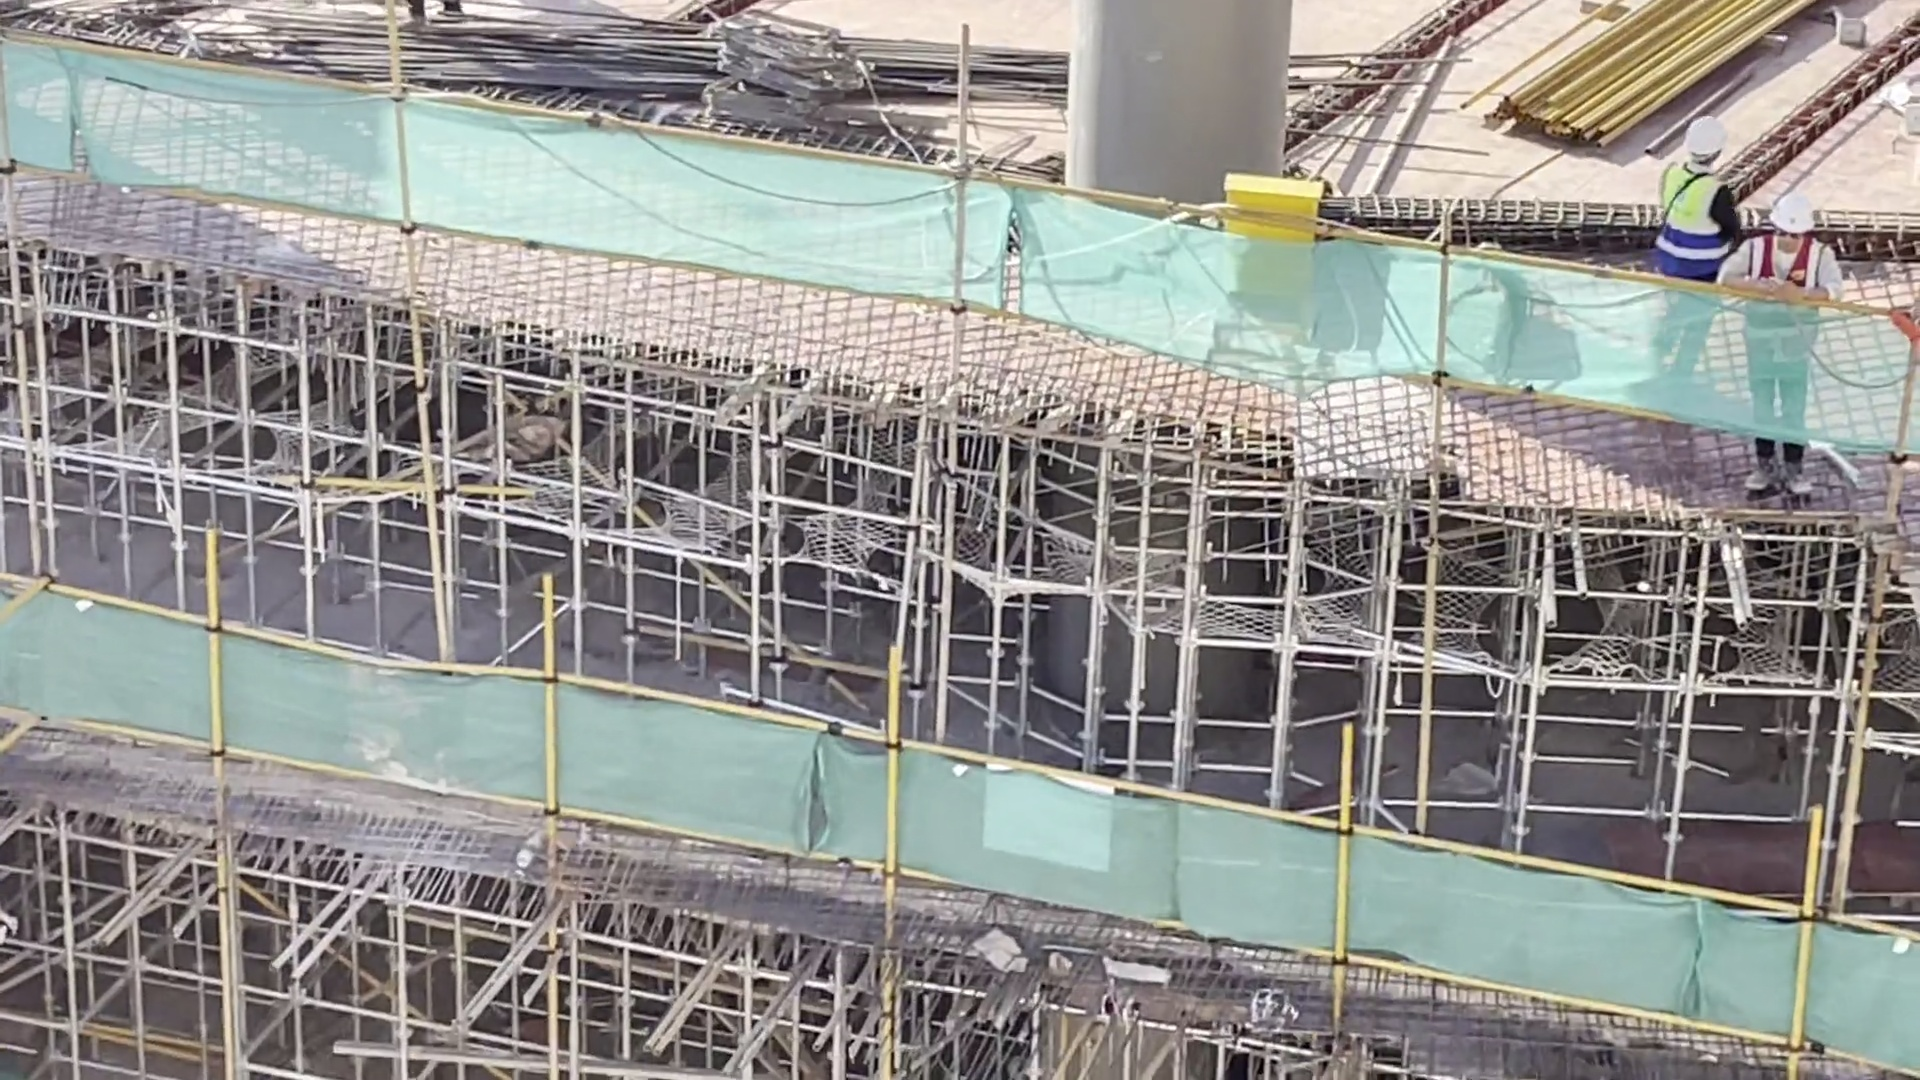helmet: (1660, 105, 1723, 174), (1765, 187, 1822, 241)
person: (1723, 168, 1852, 541), (1659, 98, 1747, 365)
vest: (1744, 229, 1818, 335), (1657, 164, 1738, 256)
